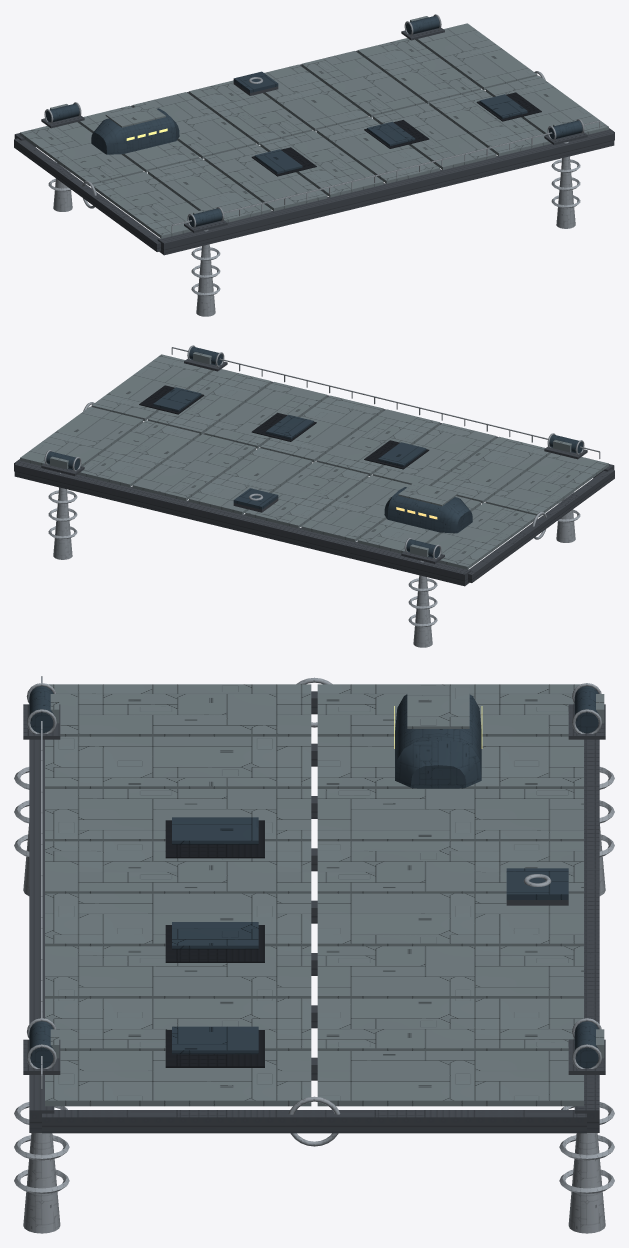
Rendered from large_ice_anchoring_terrace_lod2.glb.
3 renders of one model, top to bottom at view 1: azimuth 30°, elevation 25°; view 2: azimuth 150°, elevation 25°; view 3: azimuth 270°, elevation 25°, orthographic. The views are drawn at different scales.
Parts seen in each view (by area): view 1: LOD2_Hull, LOD2_Mechanical, LOD2_Armor, LOD2_BrushedMetal, LOD2_MechanicalDark; view 2: LOD2_Hull, LOD2_Mechanical, LOD2_Armor, LOD2_BrushedMetal, LOD2_MechanicalDark; view 3: LOD2_Hull, LOD2_Mechanical, LOD2_Armor, LOD2_BrushedMetal, LOD2_MechanicalDark.
Part boxes in pixels (x1,y1,x2,y2): LOD2_Hull: (20, 16, 608, 238); LOD2_Mechanical: (14, 27, 614, 255); LOD2_Armor: (46, 15, 582, 226); LOD2_BrushedMetal: (44, 14, 600, 316); LOD2_MechanicalDark: (251, 92, 541, 176); LOD2_Hull: (20, 352, 608, 569); LOD2_Mechanical: (14, 358, 614, 586); LOD2_Armor: (46, 346, 582, 557); LOD2_BrushedMetal: (44, 345, 600, 647); LOD2_MechanicalDark: (139, 385, 429, 469); LOD2_Hull: (45, 684, 604, 1106); LOD2_Mechanical: (23, 691, 605, 1133); LOD2_Armor: (29, 686, 598, 1068); LOD2_BrushedMetal: (14, 676, 614, 1233); LOD2_MechanicalDark: (165, 820, 264, 1067).
Bounding box in the file's own units: 81.4 × 19.24 × 48.5.
Materials: 6 (5 with a texture image).
